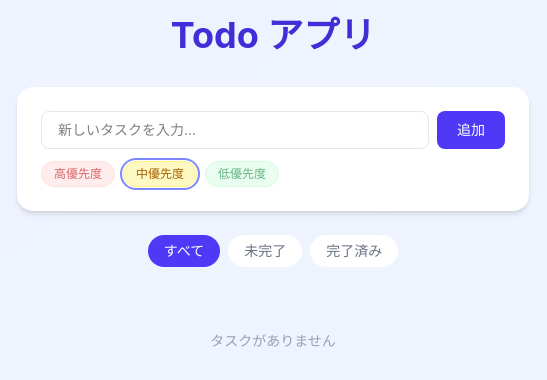
Scenario: Home (Todo アプリ) › フッター › Todoを追加すると残り件数が表示される
In the field with placeholder "新しいタスクを入力...": (235,130) [41,111,429,149], type "タスク1"
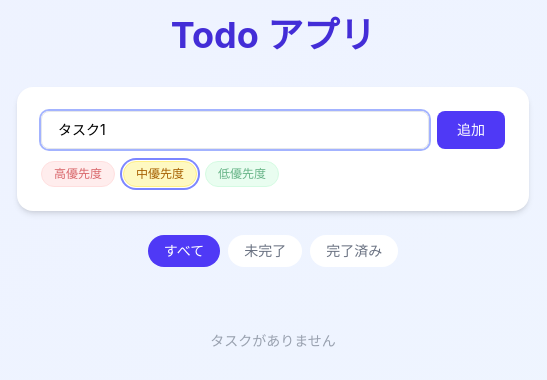
Click the button "追加": (471,130) [437,111,505,149]
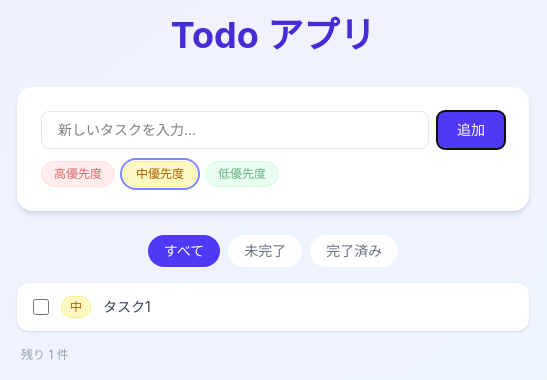
Now the text "残り 1 件" is shown, box [21,347,69,363]
